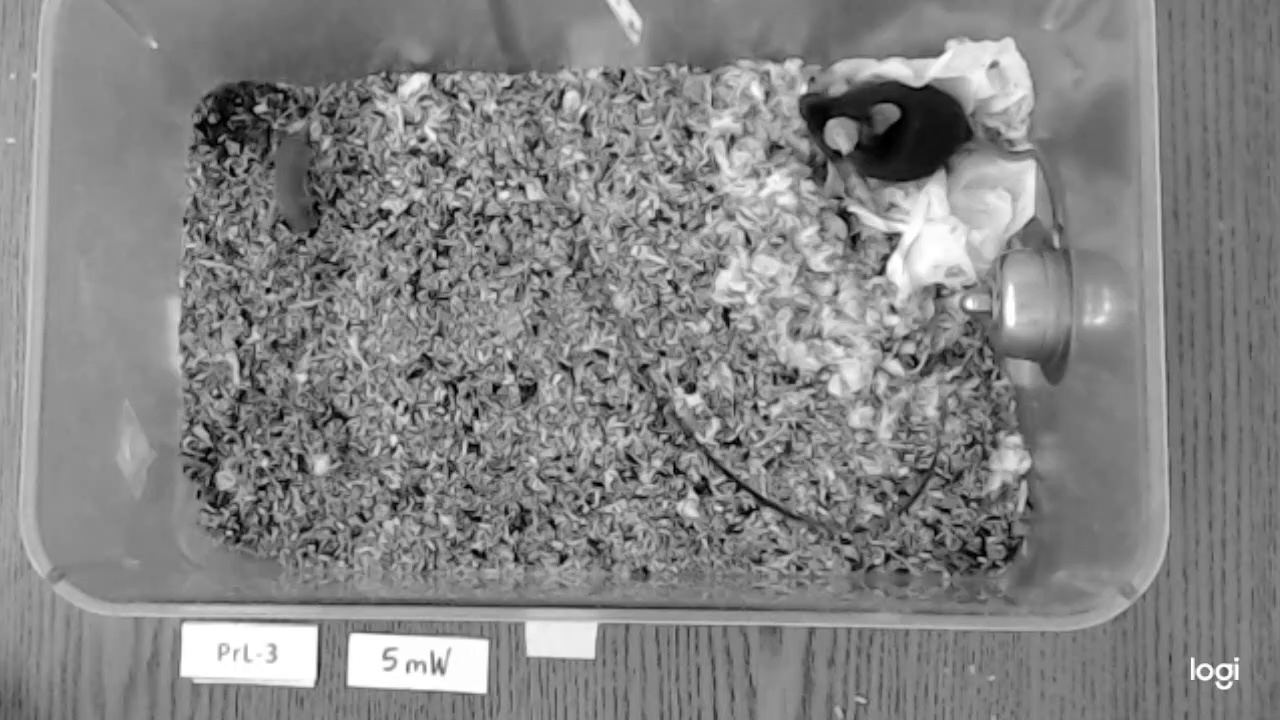child-mice: (273, 136, 313, 230)
